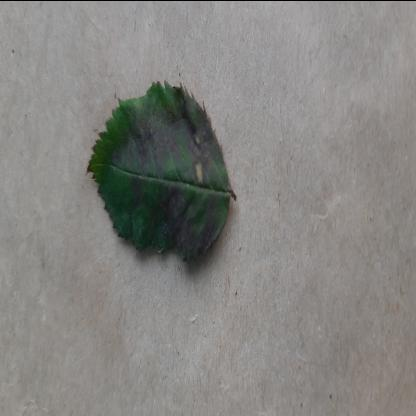powdery-mildew: (87, 71, 233, 274)
